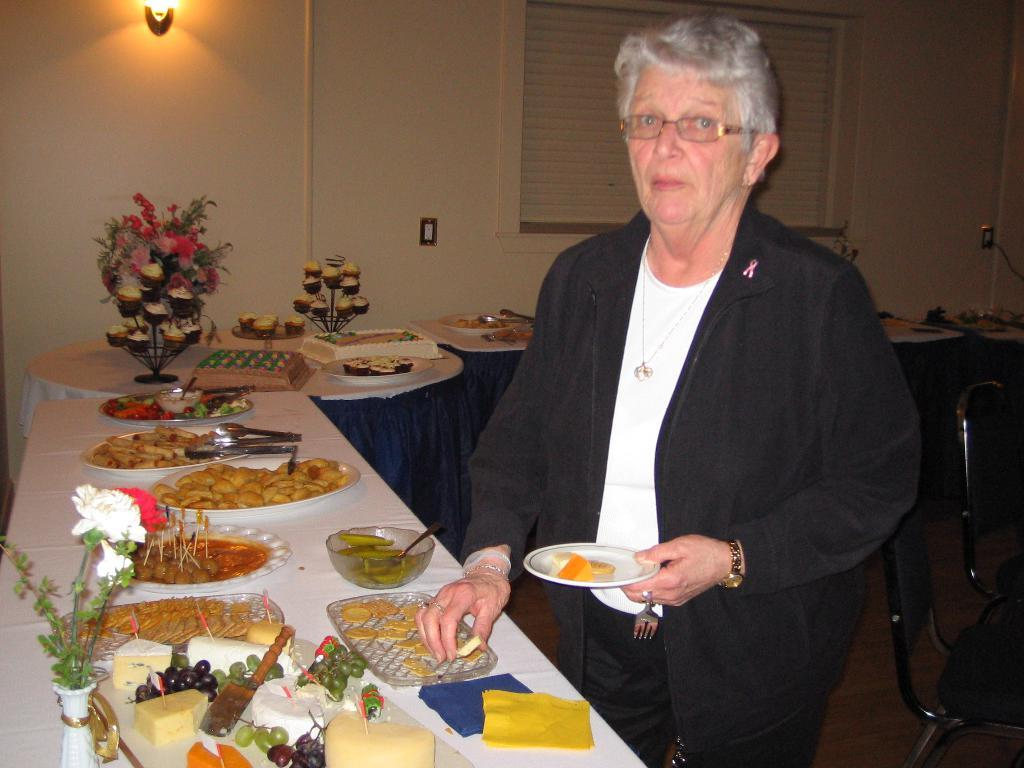Pessoa: (417, 14, 919, 767)
